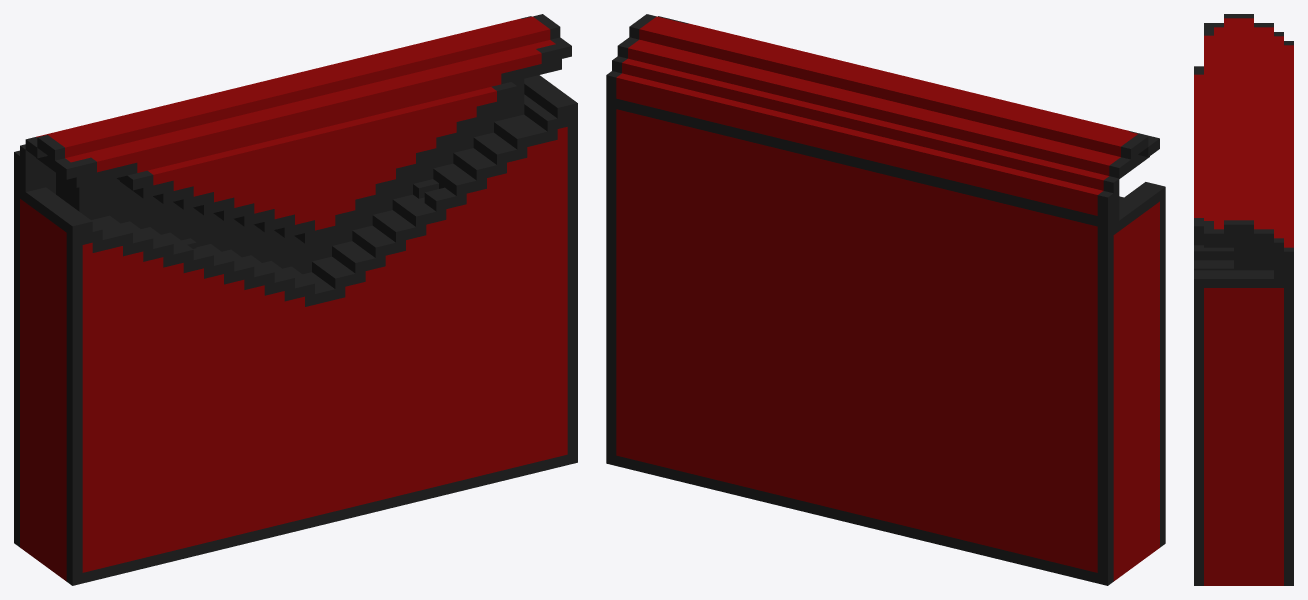
File: Melissa-0.obj
3 views of the same model, side by side, from view 1: azimuth 30°, elevation 25°; view 2: azimuth 150°, elevation 25°; view 3: azimuth 270°, elevation 25° (orthographic). The views are drawn at different scales.
Bounding box in the file's own units: 5 × 4 × 1.
Materials: 1 (1 with a texture image).
